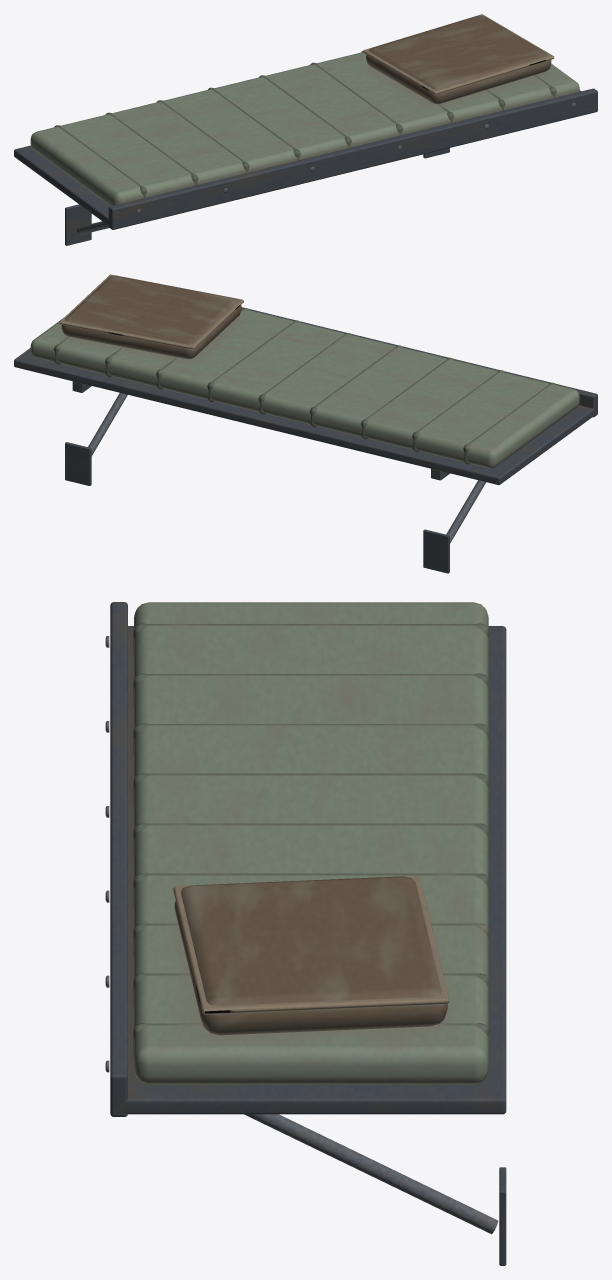
Rendered from kom_prycza.glb.
3 views of the same model, one above another, from view 1: azimuth 30°, elevation 25°; view 2: azimuth 150°, elevation 25°; view 3: azimuth 270°, elevation 25° (orthographic). The views are drawn at different scales.
Parts seen in each view (by area): view 1: Materac, Prycza; view 2: Materac, Prycza; view 3: Materac, Prycza.
Part boxes in pixels (left/top/right/bottom): Materac: left=30, top=14, right=579, bottom=206; Prycza: left=14, top=88, right=597, bottom=245; Materac: left=30, top=274, right=579, bottom=468; Prycza: left=14, top=307, right=597, bottom=573; Materac: left=133, top=602, right=489, bottom=1084; Prycza: left=105, top=602, right=506, bottom=1265.
Bounding box in the file's own units: 1.9 × 0.545 × 0.678.
Materials: 2 (2 with a texture image).
